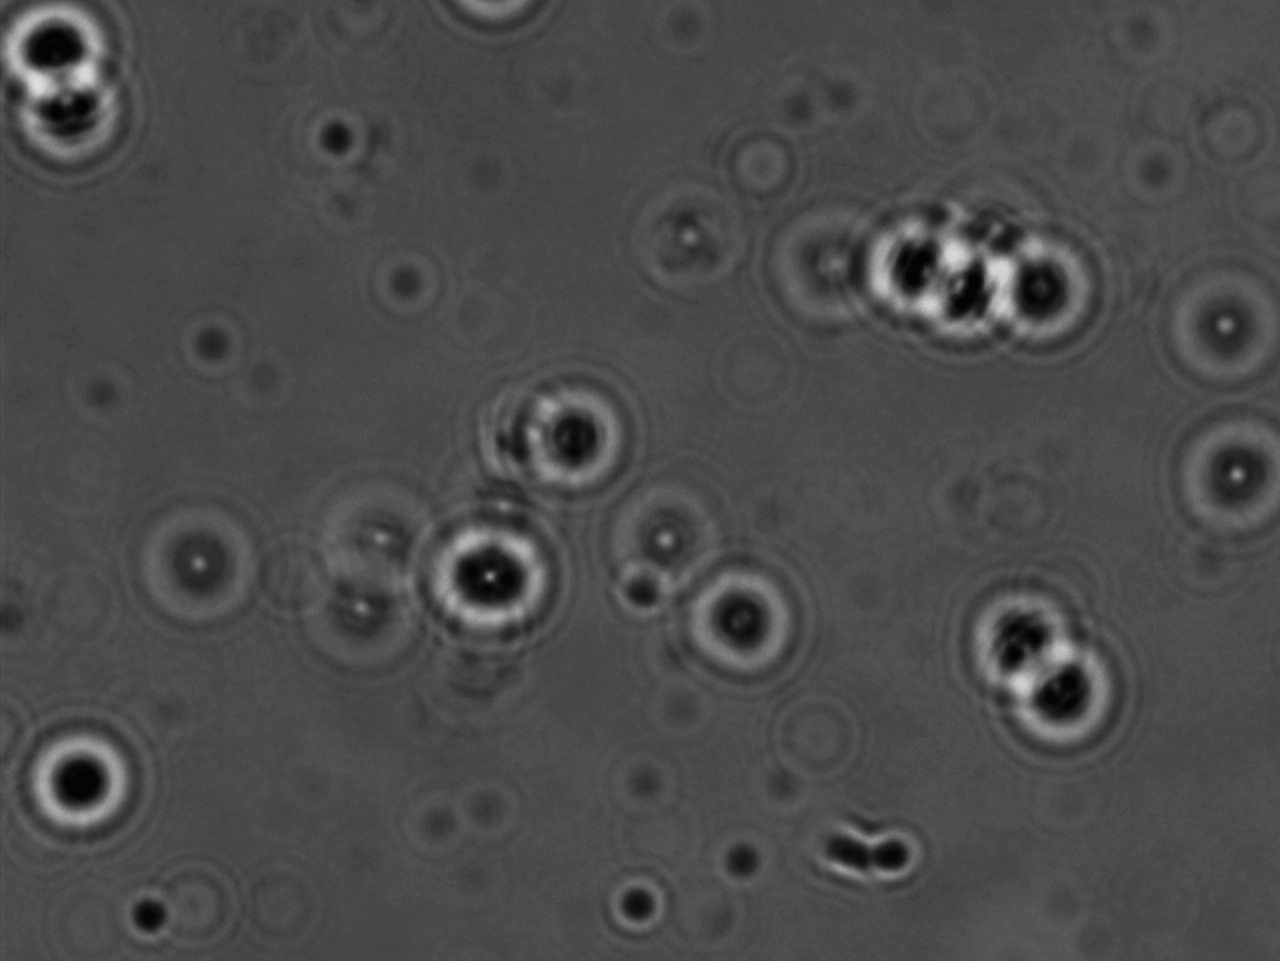depth:-16: (399, 491, 563, 658), (976, 611, 1140, 772), (0, 711, 159, 848), (493, 353, 647, 492), (673, 562, 820, 682), (979, 232, 1106, 363)
